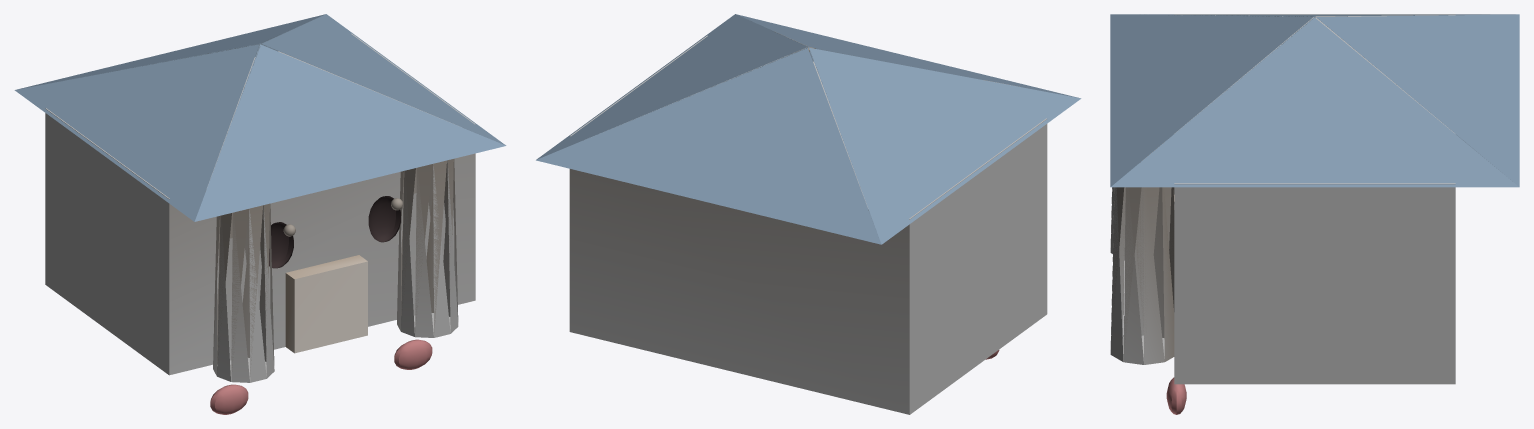
File: pffdf9b22.glb
3 renders of one model, left to right at view 1: azimuth 30°, elevation 25°; view 2: azimuth 150°, elevation 25°; view 3: azimuth 270°, elevation 25°, orthographic. The views are drawn at different scales.
Parts seen in each view (by area): view 1: pet_pffdf9b22; view 2: pet_pffdf9b22; view 3: pet_pffdf9b22.
Boxes of the visible parts, x1,y1,x2,y2 form: pet_pffdf9b22: (14, 14, 506, 414); pet_pffdf9b22: (536, 14, 1081, 414); pet_pffdf9b22: (1110, 14, 1519, 414).
Size of the model in its own units: 0.4073 by 0.3778 by 0.4073.
